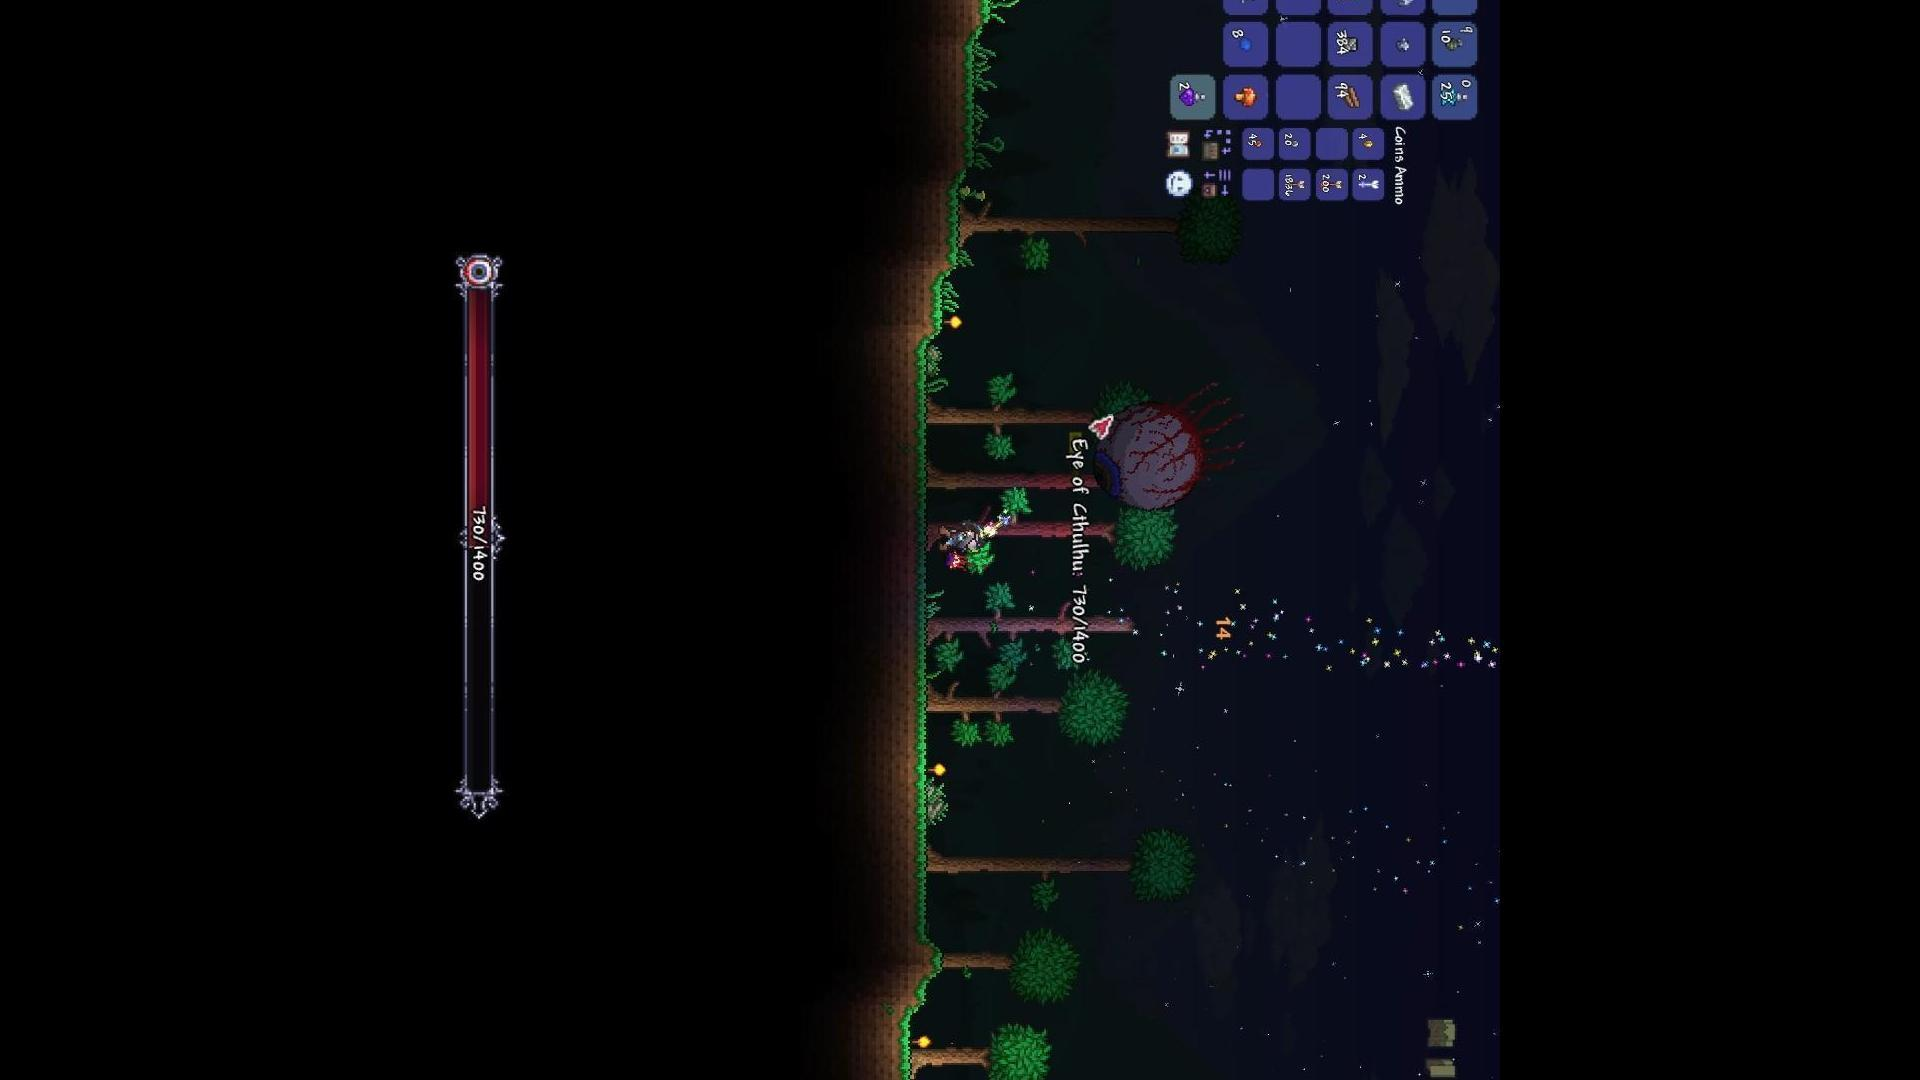arrow: (1317, 179, 1345, 190), (1356, 179, 1382, 190)
eyeC: (1091, 373, 1242, 517)
gel: (1233, 37, 1254, 55)
glowstick: (1338, 0, 1360, 5)
grenade: (1445, 37, 1466, 50)
recallP: (1439, 87, 1468, 109)
